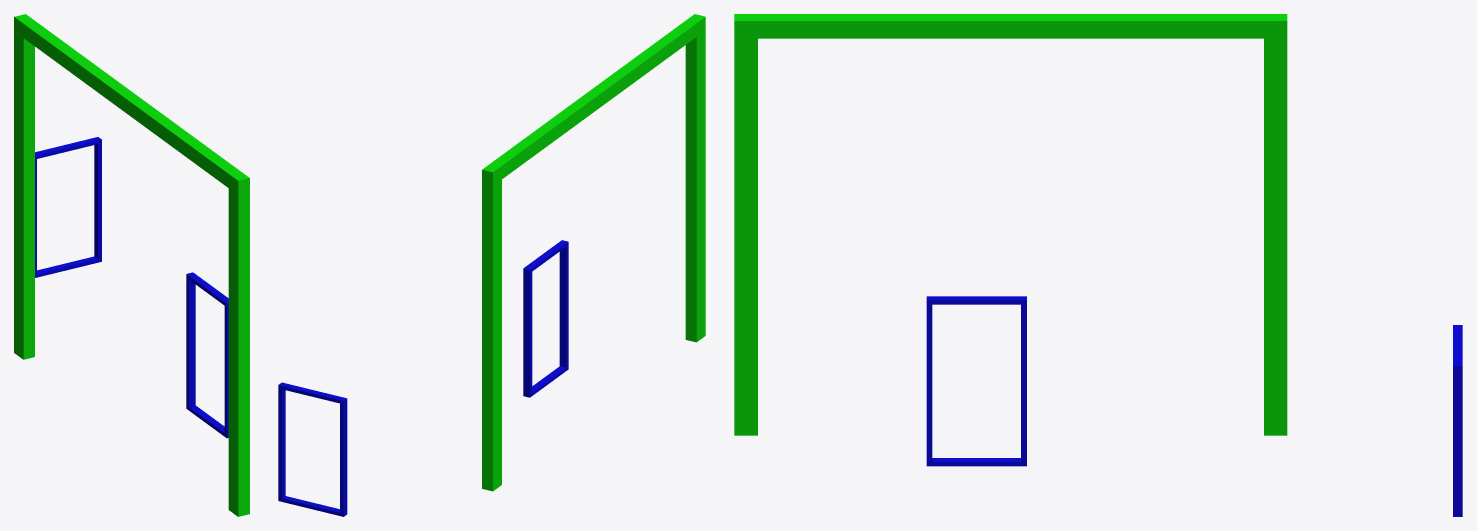
The model's file is Door_stand.fbx.
3 views of the same model, side by side, from view 1: azimuth 30°, elevation 25°; view 2: azimuth 150°, elevation 25°; view 3: azimuth 270°, elevation 25° (orthographic). The views are drawn at different scales.
Visible parts, largest first — view 1: Door_Frame_Stand; view 2: Door_Frame_Stand; view 3: Door_Frame_Stand.
Part boxes in pixels (left/top/right/bottom): Door_Frame_Stand: left=14, top=14, right=249, bottom=516; Door_Frame_Stand: left=278, top=14, right=705, bottom=516; Door_Frame_Stand: left=734, top=14, right=1462, bottom=516.
Bounding box in the file's own units: 294 × 608 × 968.
